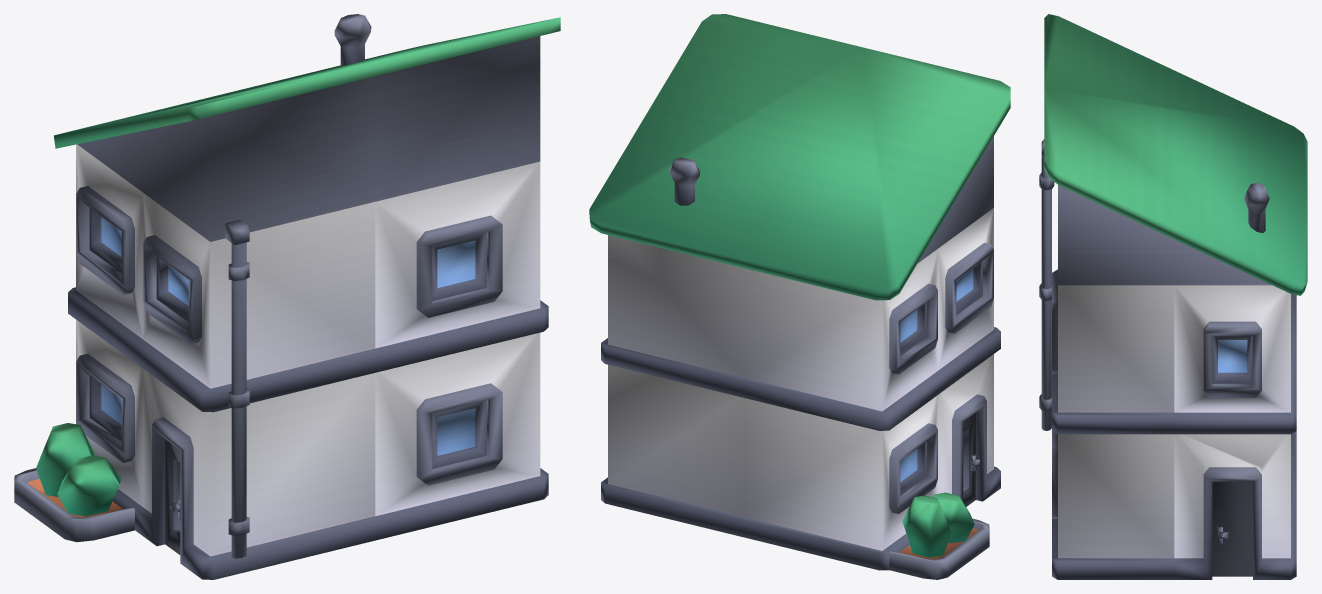
Rendered from n1_building-type-k_lev1.002.glb.
3 views of the same model, side by side, from view 1: azimuth 30°, elevation 25°; view 2: azimuth 150°, elevation 25°; view 3: azimuth 270°, elevation 25° (orthographic). The views are drawn at different scales.
Visible parts, largest first — view 1: n1_building-type-k_lev1.002; view 2: n1_building-type-k_lev1.002; view 3: n1_building-type-k_lev1.002.
Boxes of the visible parts, bbox=[...] form: n1_building-type-k_lev1.002: bbox=[14, 14, 560, 579]; n1_building-type-k_lev1.002: bbox=[589, 14, 1010, 579]; n1_building-type-k_lev1.002: bbox=[1039, 14, 1307, 579].
Bounding box in the file's own units: 7.9 × 8.65 × 5.03.
Materials: 1 (1 with a texture image).
